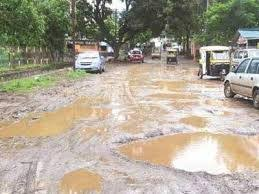pothole: (111, 130, 259, 176), (2, 98, 112, 133), (53, 163, 106, 194), (154, 77, 193, 109), (177, 112, 207, 127)
